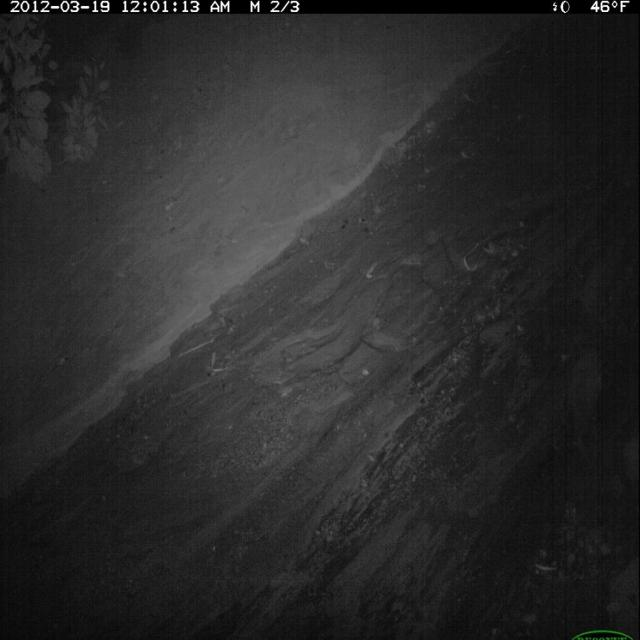cat: (559, 326, 613, 477)
